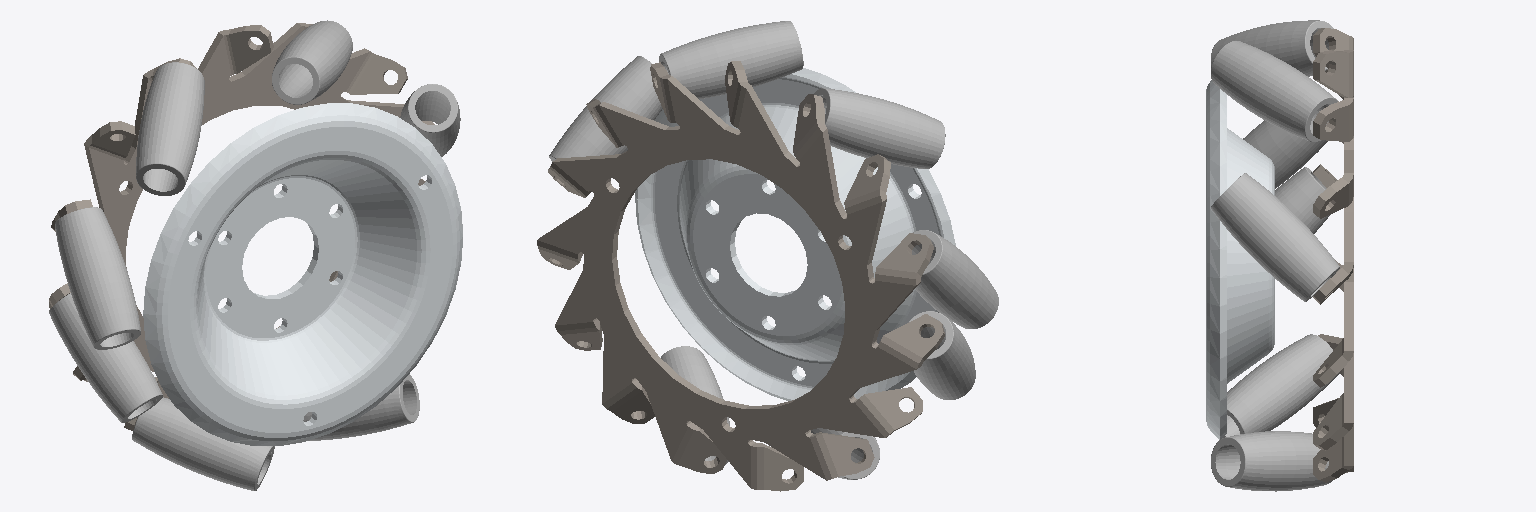
URDF robot description (mecanum_wheel_left):
<?xml version="1.0" encoding="utf-8"?>
<!-- This URDF was automatically created by SolidWorks to URDF Exporter! Originally created by Stephen Brawner ([email redacted]) 
     Commit Version: 1.6.0-4-g7f85cfe  Build Version: 1.6.7995.38578
     For more information, please see http://wiki.ros.org/sw_urdf_exporter -->
<robot
  name="mecanum_wheel_left">
  <link
    name="base_link">
    <inertial>
      <origin
        xyz="-3.9077136779291E-16 -0.0136205707454137 -1.44489682185117E-14"
        rpy="0 0 0" />
      <mass
        value="0.039620820516108" />
      <inertia
        ixx="3.76577202480009E-05"
        ixy="-1.07908308681007E-19"
        ixz="3.89356499633093E-22"
        iyy="7.10123305553507E-05"
        iyz="-1.66085499471637E-18"
        izz="3.76577202480009E-05" />
    </inertial>
    <visual>
      <origin
        xyz="0 0 0"
        rpy="0 0 0" />
      <geometry>
        <mesh
          filename="package://mecanum_wheel_left/meshes/base_link.STL" />
      </geometry>
      <material
        name="">
        <color
          rgba="0.898039215686275 0.917647058823529 0.929411764705882 1" />
      </material>
    </visual>
    <collision>
      <origin
        xyz="0 0 0"
        rpy="0 0 0" />
      <geometry>
        <mesh
          filename="package://mecanum_wheel_left/meshes/base_link.STL" />
      </geometry>
    </collision>
  </link>
  <link
    name="plate1">
    <inertial>
      <origin
        xyz="8.83119736279022E-16 3.33301269118141E-17 -0.000551568670724527"
        rpy="0 0 0" />
      <mass
        value="0.0253986639693882" />
      <inertia
        ixx="4.21627753206923E-05"
        ixy="1.3976043629696E-20"
        ixz="-2.39458839321443E-21"
        iyy="4.21627753206922E-05"
        iyz="4.06169630282727E-21"
        izz="8.39719993847474E-05" />
    </inertial>
    <visual>
      <origin
        xyz="0 0 0"
        rpy="0 0 0" />
      <geometry>
        <mesh
          filename="package://mecanum_wheel_left/meshes/plate1.STL" />
      </geometry>
      <material
        name="">
        <color
          rgba="0.650980392156863 0.619607843137255 0.588235294117647 1" />
      </material>
    </visual>
    <collision>
      <origin
        xyz="0 0 0"
        rpy="0 0 0" />
      <geometry>
        <mesh
          filename="package://mecanum_wheel_left/meshes/plate1.STL" />
      </geometry>
    </collision>
  </link>
  <joint
    name="base_link_to_plate1"
    type="fixed">
    <origin
      xyz="0 0.023114 0"
      rpy="-1.5708 0.03287 0" />
    <parent
      link="base_link" />
    <child
      link="plate1" />
    <axis
      xyz="0 0 0" />
  </joint>
  <link
    name="plate2">
    <inertial>
      <origin
        xyz="-1.10651810076925E-15 8.09386876632109E-17 -0.000551568670724527"
        rpy="0 0 0" />
      <mass
        value="0.0253986639693882" />
      <inertia
        ixx="4.21627753206924E-05"
        ixy="1.65171424714589E-20"
        ixz="4.28643950323039E-22"
        iyy="4.21627753206923E-05"
        iyz="2.75305456980319E-21"
        izz="8.39719993847476E-05" />
    </inertial>
    <visual>
      <origin
        xyz="0 0 0"
        rpy="0 0 0" />
      <geometry>
        <mesh
          filename="package://mecanum_wheel_left/meshes/plate2.STL" />
      </geometry>
      <material
        name="">
        <color
          rgba="0.650980392156863 0.619607843137255 0.588235294117647 1" />
      </material>
    </visual>
    <collision>
      <origin
        xyz="0 0 0"
        rpy="0 0 0" />
      <geometry>
        <mesh
          filename="package://mecanum_wheel_left/meshes/plate2.STL" />
      </geometry>
    </collision>
  </link>
  <joint
    name="base_link_to_plate2"
    type="fixed">
    <origin
      xyz="0 -0.023114 0"
      rpy="-1.5707963267949 0.0335546833724646 -3.14159265358979" />
    <parent
      link="base_link" />
    <child
      link="plate2" />
    <axis
      xyz="0 0 0" />
  </joint>

  <link
    name="roller1">
    <inertial>
      <origin
        xyz="5.96744875736022E-16 -1.24475083018716E-14 -0.0215899999999933"
        rpy="0 0 0" />
      <mass
        value="0.00499543658848208" />
      <inertia
        ixx="8.99919949242919E-07"
        ixy="3.97046694025453E-23"
        ixz="9.81863387100444E-22"
        iyy="8.9991994924288E-07"
        iyz="-8.0163727523739E-19"
        izz="3.31951561004127E-07" />
    </inertial>
    <visual>
      <origin
        xyz="0 0 0"
        rpy="0 0 0" />
      <geometry>
        <mesh
          filename="package://mecanum_wheel_left/meshes/roller1.STL" />
      </geometry>
      <material
        name="">
        <color
          rgba="0.752941176470588 0.752941176470588 0.752941176470588 1" />
      </material>
    </visual>
    <collision>
      <origin
        xyz="0 0 0"
        rpy="0 0 0" />
      <geometry>
        <mesh
          filename="package://mecanum_wheel_left/meshes/roller1.STL" />
      </geometry>
    </collision>
  </link>

  <joint
    name="base_link_to_roller1"
    type="continuous">
    <origin
      xyz="-0.064997 -0.01515 0.019737"
      rpy="2.3375 0.48899 -0.038445" />
    <parent
      link="base_link" />
    <child
      link="roller1" />
    <axis
      xyz="0 0 1" />
  </joint>


  <link
    name="roller2">
    <inertial>
      <origin
        xyz="5.82867087928207E-16 -9.95687907123788E-15 -0.0215899999999933"
        rpy="0 0 0" />
      <mass
        value="0.00499543658848216" />
      <inertia
        ixx="8.99919949245561E-07"
        ixy="-3.30872245021211E-24"
        ixz="8.56959114604937E-22"
        iyy="8.99919949245641E-07"
        iyz="-8.01716684576195E-19"
        izz="3.31951561009139E-07" />
    </inertial>
    <visual>
      <origin
        xyz="0 0 0"
        rpy="0 0 0" />
      <geometry>
        <mesh
          filename="package://mecanum_wheel_left/meshes/roller2.STL" />
      </geometry>
      <material
        name="">
        <color
          rgba="0.752941176470588 0.752941176470588 0.752941176470588 1" />
      </material>
    </visual>
    <collision>
      <origin
        xyz="0 0 0"
        rpy="0 0 0" />
      <geometry>
        <mesh
          filename="package://mecanum_wheel_left/meshes/roller2.STL" />
      </geometry>
    </collision>
  </link>
  <joint
    name="base_link_to_roller2"
    type="continuous">
    <origin
      xyz="-0.05135 -0.01515 0.044467"
      rpy="2.3122 0.90744 -0.055132" />
    <parent
      link="base_link" />
    <child
      link="roller2" />
    <axis
      xyz="0 0 1" />
  </joint>
  <link
    name="roller3">
    <inertial>
      <origin
        xyz="5.82867087928207E-16 -3.41003267290141E-15 -0.0215899999999933"
        rpy="0 0 0" />
      <mass
        value="0.00499543658848228" />
      <inertia
        ixx="8.9991994924907E-07"
        ixy="-9.92616735063633E-24"
        ixz="8.47860127866853E-22"
        iyy="8.99919949249046E-07"
        iyz="-8.01743154355797E-19"
        izz="3.3195156101569E-07" />
    </inertial>
    <visual>
      <origin
        xyz="0 0 0"
        rpy="0 0 0" />
      <geometry>
        <mesh
          filename="package://mecanum_wheel_left/meshes/roller3.STL" />
      </geometry>
      <material
        name="">
        <color
          rgba="0.752941176470588 0.752941176470588 0.752941176470588 1" />
      </material>
    </visual>
    <collision>
      <origin
        xyz="0 0 0"
        rpy="0 0 0" />
      <geometry>
        <mesh
          filename="package://mecanum_wheel_left/meshes/roller3.STL" />
      </geometry>
    </collision>
  </link>
  <joint
    name="base_link_to_roller3"
    type="continuous">
    <origin
      xyz="-0.028824 -0.01515 0.061508"
      rpy="2.22 1.3248 -0.13976" />
    <parent
      link="base_link" />
    <child
      link="roller3" />
    <axis
      xyz="0 0 1" />
  </joint>
  <link
    name="roller4">
    <inertial>
      <origin
        xyz="5.68989300120393E-16 -3.35365415993216E-15 -0.0215899999999933"
        rpy="0 0 0" />
      <mass
        value="0.00499543658848229" />
      <inertia
        ixx="8.9991994924904E-07"
        ixy="1.65436122510606E-23"
        ixz="7.69277969674316E-22"
        iyy="8.99919949249123E-07"
        iyz="-8.01796093915E-19"
        izz="3.31951561015737E-07" />
    </inertial>
    <visual>
      <origin
        xyz="0 0 0"
        rpy="0 0 0" />
      <geometry>
        <mesh
          filename="package://mecanum_wheel_left/meshes/roller4.STL" />
      </geometry>
      <material
        name="">
        <color
          rgba="0.752941176470588 0.752941176470588 0.752941176470588 1" />
      </material>
    </visual>
    <collision>
      <origin
        xyz="0 0 0"
        rpy="0 0 0" />
      <geometry>
        <mesh
          filename="package://mecanum_wheel_left/meshes/roller4.STL" />
      </geometry>
    </collision>
  </link>
  <joint
    name="base_link_to_roller4"
    type="continuous">
    <origin
      xyz="-0.0013143 -0.01515 0.067914"
      rpy="-0.59653 1.3924 -2.9492" />
    <parent
      link="base_link" />
    <child
      link="roller4" />
    <axis
      xyz="0 0 1" />
  </joint>
  <link
    name="roller5">
    <inertial>
      <origin
        xyz="5.96744875736022E-16 2.4459601011273E-15 -0.0215899999999933"
        rpy="0 0 0" />
      <mass
        value="0.00499543658848241" />
      <inertia
        ixx="8.99919949250993E-07"
        ixy="3.14328632770151E-23"
        ixz="7.25437397209005E-22"
        iyy="8.99919949251052E-07"
        iyz="-8.01796093915E-19"
        izz="3.31951561019638E-07" />
    </inertial>
    <visual>
      <origin
        xyz="0 0 0"
        rpy="0 0 0" />
      <geometry>
        <mesh
          filename="package://mecanum_wheel_left/meshes/roller5.STL" />
      </geometry>
      <material
        name="">
        <color
          rgba="0.752941176470588 0.752941176470588 0.752941176470588 1" />
      </material>
    </visual>
    <collision>
      <origin
        xyz="0 0 0"
        rpy="0 0 0" />
      <geometry>
        <mesh
          filename="package://mecanum_wheel_left/meshes/roller5.STL" />
      </geometry>
    </collision>
  </link>
  <joint
    name="base_link_to_roller5"
    type="continuous">
    <origin
      xyz="0.026423 -0.01515 0.062578"
      rpy="-0.73578 0.97593 -3.081" />
    <parent
      link="base_link" />
    <child
      link="roller5" />
    <axis
      xyz="0 0 1" />
  </joint>
  <link
    name="roller6">
    <inertial>
      <origin
        xyz="5.82867087928207E-16 -7.52392939618041E-15 -0.0215899999999933"
        rpy="0 0 0" />
      <mass
        value="0.00499543658848228" />
      <inertia
        ixx="8.99919949249441E-07"
        ixy="5.9557004103818E-23"
        ixz="8.28834973778134E-22"
        iyy="8.99919949249495E-07"
        iyz="-8.017828590252E-19"
        izz="3.31951561016508E-07" />
    </inertial>
    <visual>
      <origin
        xyz="0 0 0"
        rpy="0 0 0" />
      <geometry>
        <mesh
          filename="package://mecanum_wheel_left/meshes/roller6.STL" />
      </geometry>
      <material
        name="">
        <color
          rgba="0.752941176470588 0.752941176470588 0.752941176470588 1" />
      </material>
    </visual>
    <collision>
      <origin
        xyz="0 0 0"
        rpy="0 0 0" />
      <geometry>
        <mesh
          filename="package://mecanum_wheel_left/meshes/roller6.STL" />
      </geometry>
    </collision>
  </link>
  <joint
    name="base_link_to_roller6"
    type="continuous">
    <origin
      xyz="0.049591 -0.01515 0.04642"
      rpy="-0.76481 0.55754 -3.1016" />
    <parent
      link="base_link" />
    <child
      link="roller6" />
    <axis
      xyz="0 0 1" />
  </joint>
  <link
    name="roller7">
    <inertial>
      <origin
        xyz="5.82867087928207E-16 -3.4109000346394E-15 -0.0215899999999933"
        rpy="0 0 0" />
      <mass
        value="0.00499543658848228" />
      <inertia
        ixx="8.9991994924911E-07"
        ixy="-3.30872245021211E-24"
        ixz="7.51079996198149E-22"
        iyy="8.99919949249103E-07"
        iyz="-8.00353490926708E-19"
        izz="3.31951561015786E-07" />
    </inertial>
    <visual>
      <origin
        xyz="0 0 0"
        rpy="0 0 0" />
      <geometry>
        <mesh
          filename="package://mecanum_wheel_left/meshes/roller7.STL" />
      </geometry>
      <material
        name="">
        <color
          rgba="0.752941176470588 0.752941176470588 0.752941176470588 1" />
      </material>
    </visual>
    <collision>
      <origin
        xyz="0 0 0"
        rpy="0 0 0" />
      <geometry>
        <mesh
          filename="package://mecanum_wheel_left/meshes/roller7.STL" />
      </geometry>
    </collision>
  </link>
  <joint
    name="base_link_to_roller7"
    type="continuous">
    <origin
      xyz="0.064184 -0.01515 0.022237"
      rpy="-0.78123 0.13894 -3.1073" />
    <parent
      link="base_link" />
    <child
      link="roller7" />
    <axis
      xyz="0 0 1" />
  </joint>
  <link
    name="roller8">
    <inertial>
      <origin
        xyz="5.82867087928207E-16 -1.76421377506841E-15 -0.0215899999999933"
        rpy="0 0 0" />
      <mass
        value="0.00499543658848253" />
      <inertia
        ixx="8.9991994925561E-07"
        ixy="-4.13590306276514E-23"
        ixz="7.46944093135384E-22"
        iyy="8.99919949255578E-07"
        iyz="-8.01624040347589E-19"
        izz="3.31951561027997E-07" />
    </inertial>
    <visual>
      <origin
        xyz="0 0 0"
        rpy="0 0 0" />
      <geometry>
        <mesh
          filename="package://mecanum_wheel_left/meshes/roller8.STL" />
      </geometry>
      <material
        name="">
        <color
          rgba="0.752941176470588 0.752941176470588 0.752941176470588 1" />
      </material>
    </visual>
    <collision>
      <origin
        xyz="0 0 0"
        rpy="0 0 0" />
      <geometry>
        <mesh
          filename="package://mecanum_wheel_left/meshes/roller8.STL" />
      </geometry>
    </collision>
  </link>
  <joint
    name="base_link_to_roller8"
    type="continuous">
    <origin
      xyz="0.06768 -0.01515 -0.0057919"
      rpy="-0.79573 -0.27969 -3.1063" />
    <parent
      link="base_link" />
    <child
      link="roller8" />
    <axis
      xyz="0 0 1" />
  </joint>
  <link
    name="roller9">
    <inertial>
      <origin
        xyz="5.82867087928207E-16 -5.1013880619788E-15 -0.0215899999999933"
        rpy="0 0 0" />
      <mass
        value="0.00499543658848228" />
      <inertia
        ixx="8.99919949250354E-07"
        ixy="1.81979734761666E-22"
        ixz="8.08982639076861E-22"
        iyy="8.99919949250367E-07"
        iyz="-8.01835798584403E-19"
        izz="3.31951561017902E-07" />
    </inertial>
    <visual>
      <origin
        xyz="0 0 0"
        rpy="0 0 0" />
      <geometry>
        <mesh
          filename="package://mecanum_wheel_left/meshes/roller9.STL" />
      </geometry>
      <material
        name="">
        <color
          rgba="0.752941176470588 0.752941176470588 0.752941176470588 1" />
      </material>
    </visual>
    <collision>
      <origin
        xyz="0 0 0"
        rpy="0 0 0" />
      <geometry>
        <mesh
          filename="package://mecanum_wheel_left/meshes/roller9.STL" />
      </geometry>
    </collision>
  </link>
  <joint
    name="base_link_to_roller9"
    type="continuous">
    <origin
      xyz="0.059473 -0.01515 -0.032819"
      rpy="-0.81448 -0.69826 -3.0973" />
    <parent
      link="base_link" />
    <child
      link="roller9" />
    <axis
      xyz="0 0 1" />
  </joint>
  <link
    name="roller10">
    <inertial>
      <origin
        xyz="5.96744875736022E-16 -6.51952450358984E-15 -0.0215899999999933"
        rpy="0 0 0" />
      <mass
        value="0.00499543658848228" />
      <inertia
        ixx="8.99919949250464E-07"
        ixy="-1.43929426584227E-22"
        ixz="8.58613475830043E-22"
        iyy="8.99919949250483E-07"
        iyz="-8.01756389245598E-19"
        izz="3.31951561018128E-07" />
    </inertial>
    <visual>
      <origin
        xyz="0 0 0"
        rpy="0 0 0" />
      <geometry>
        <mesh
          filename="package://mecanum_wheel_left/meshes/roller10.STL" />
      </geometry>
      <material
        name="">
        <color
          rgba="0.752941176470588 0.752941176470588 0.752941176470588 1" />
      </material>
    </visual>
    <collision>
      <origin
        xyz="0 0 0"
        rpy="0 0 0" />
      <geometry>
        <mesh
          filename="package://mecanum_wheel_left/meshes/roller10.STL" />
      </geometry>
    </collision>
  </link>
  <joint
    name="base_link_to_roller10"
    type="continuous">
    <origin
      xyz="0.040982 -0.01515 -0.054171"
      rpy="-0.85554 -1.1164 -3.0642" />
    <parent
      link="base_link" />
    <child
      link="roller10" />
    <axis
      xyz="0 0 1" />
  </joint>
  <link
    name="roller11">
    <inertial>
      <origin
        xyz="5.68989300120393E-16 -3.40699690681845E-15 -0.0215899999999933"
        rpy="0 0 0" />
      <mass
        value="0.00499543658848228" />
      <inertia
        ixx="8.99919949249114E-07"
        ixy="-6.61744490042422E-24"
        ixz="8.13118542139626E-22"
        iyy="8.99919949249044E-07"
        iyz="-8.00419665375712E-19"
        izz="3.31951561015731E-07" />
    </inertial>
    <visual>
      <origin
        xyz="0 0 0"
        rpy="0 0 0" />
      <geometry>
        <mesh
          filename="package://mecanum_wheel_left/meshes/roller11.STL" />
      </geometry>
      <material
        name="">
        <color
          rgba="0.752941176470588 0.752941176470588 0.752941176470588 1" />
      </material>
    </visual>
    <collision>
      <origin
        xyz="0 0 0"
        rpy="0 0 0" />
      <geometry>
        <mesh
          filename="package://mecanum_wheel_left/meshes/roller11.STL" />
      </geometry>
    </collision>
  </link>
  <joint
    name="base_link_to_roller11"
    type="continuous">
    <origin
      xyz="0.015406 -0.01515 -0.066157"
      rpy="-1.5658 -1.5225 -2.3612" />
    <parent
      link="base_link" />
    <child
      link="roller11" />
    <axis
      xyz="0 0 1" />
  </joint>
  <link
    name="roller12">
    <inertial>
      <origin
        xyz="5.96744875736022E-16 -9.87751547221194E-15 -0.0215899999999933"
        rpy="0 0 0" />
      <mass
        value="0.00499543658848222" />
      <inertia
        ixx="8.99919949247458E-07"
        ixy="8.27180612553028E-24"
        ixz="7.10548146183051E-22"
        iyy="8.99919949247364E-07"
        iyz="-8.01716684576195E-19"
        izz="3.31951561012396E-07" />
    </inertial>
    <visual>
      <origin
        xyz="0 0 0"
        rpy="0 0 0" />
      <geometry>
        <mesh
          filename="package://mecanum_wheel_left/meshes/roller12.STL" />
      </geometry>
      <material
        name="">
        <color
          rgba="0.752941176470588 0.752941176470588 0.752941176470588 1" />
      </material>
    </visual>
    <collision>
      <origin
        xyz="0 0 0"
        rpy="0 0 0" />
      <geometry>
        <mesh
          filename="package://mecanum_wheel_left/meshes/roller12.STL" />
      </geometry>
    </collision>
  </link>
  <joint
    name="base_link_to_roller12"
    type="continuous">
    <origin
      xyz="-0.012835 -0.01515 -0.066704"
      rpy="2.4393 -1.1848 -0.090248" />
    <parent
      link="base_link" />
    <child
      link="roller12" />
    <axis
      xyz="0 0 1" />
  </joint>
  <link
    name="roller13">
    <inertial>
      <origin
        xyz="6.10622663543836E-16 -6.50608039665102E-15 -0.0215899999999933"
        rpy="0 0 0" />
      <mass
        value="0.0049954365884824" />
      <inertia
        ixx="8.99919949251263E-07"
        ixy="3.30872245021211E-24"
        ixz="8.75984268693656E-22"
        iyy="8.9991994925119E-07"
        iyz="-8.01491691449581E-19"
        izz="3.31951561019653E-07" />
    </inertial>
    <visual>
      <origin
        xyz="0 0 0"
        rpy="0 0 0" />
      <geometry>
        <mesh
          filename="package://mecanum_wheel_left/meshes/roller13.STL" />
      </geometry>
      <material
        name="">
        <color
          rgba="0.752941176470588 0.752941176470588 0.752941176470588 1" />
      </material>
    </visual>
    <collision>
      <origin
        xyz="0 0 0"
        rpy="0 0 0" />
      <geometry>
        <mesh
          filename="package://mecanum_wheel_left/meshes/roller13.STL" />
      </geometry>
    </collision>
  </link>
  <joint
    name="base_link_to_roller13"
    type="continuous">
    <origin
      xyz="-0.038856 -0.01515 -0.055716"
      rpy="2.3883 -0.76678 -0.047134" />
    <parent
      link="base_link" />
    <child
      link="roller13" />
    <axis
      xyz="0 0 1" />
  </joint>
  <link
    name="roller14">
    <inertial>
      <origin
        xyz="5.96744875736022E-16 -3.365797224264E-15 -0.0215899999999933"
        rpy="0 0 0" />
      <mass
        value="0.00499543658848228" />
      <inertia
        ixx="8.99919949249125E-07"
        ixy="2.81241408268029E-23"
        ixz="6.46855239016468E-22"
        iyy="8.99919949249103E-07"
        iyz="-8.01888738143606E-19"
        izz="3.31951561015801E-07" />
    </inertial>
    <visual>
      <origin
        xyz="0 0 0"
        rpy="0 0 0" />
      <geometry>
        <mesh
          filename="package://mecanum_wheel_left/meshes/roller14.STL" />
      </geometry>
      <material
        name="">
        <color
          rgba="0.752941176470588 0.752941176470588 0.752941176470588 1" />
      </material>
    </visual>
    <collision>
      <origin
        xyz="0 0 0"
        rpy="0 0 0" />
      <geometry>
        <mesh
          filename="package://mecanum_wheel_left/meshes/roller14.STL" />
      </geometry>
    </collision>
  </link>
  <joint
    name="base_link_to_roller14"
    type="continuous">
    <origin
      xyz="-0.058159 -0.01515 -0.035095"
      rpy="2.3679 -0.34825 -0.036106" />
    <parent
      link="base_link" />
    <child
      link="roller14" />
    <axis
      xyz="0 0 1" />
  </joint>
  <link
    name="roller15">
    <inertial>
      <origin
        xyz="5.82867087928207E-16 -3.35452152167015E-15 -0.0215899999999933"
        rpy="0 0 0" />
      <mass
        value="0.00499543658848229" />
      <inertia
        ixx="8.99919949249126E-07"
        ixy="-1.15805285757424E-23"
        ixz="8.54477572767278E-22"
        iyy="8.99919949249124E-07"
        iyz="-8.01796093915E-19"
        izz="3.31951561015821E-07" />
    </inertial>
    <visual>
      <origin
        xyz="0 0 0"
        rpy="0 0 0" />
      <geometry>
        <mesh
          filename="package://mecanum_wheel_left/meshes/roller15.STL" />
      </geometry>
      <material
        name="">
        <color
          rgba="0.752941176470588 0.752941176470588 0.752941176470588 1" />
      </material>
    </visual>
    <collision>
      <origin
        xyz="0 0 0"
        rpy="0 0 0" />
      <geometry>
        <mesh
          filename="package://mecanum_wheel_left/meshes/roller15.STL" />
      </geometry>
    </collision>
  </link>
  <joint
    name="base_link_to_roller15"
    type="continuous">
    <origin
      xyz="-0.0674050504299177 -0.0151497403158722 -0.00840608812639412"
      rpy="2.35322166168045 0.070379538766794 -0.0340216727613588" />
    <parent
      link="base_link" />
    <child
      link="roller15" />
    <axis
      xyz="0 0 1" />
  </joint>
</robot>

--- What the picture shows (computed from the rendered views, not written in the file) ---
Views: 3 orthographic renders of the robot side by side, from view 1: azimuth 30°, elevation 25°; view 2: azimuth 150°, elevation 25°; view 3: azimuth 270°, elevation 25°.
Model mecanum_wheel_left with 18 links and 17 joints (15 continuous, 2 fixed), rooted at base_link, posed every joint at zero.
Links seen in each view (by area): view 1: base_link, plate1, roller15, roller2, roller12, roller14, roller4, roller6, roller10; view 2: plate1, base_link, roller2, roller4, roller15, roller6, roller14, roller10, roller12; view 3: base_link, plate1, roller6, roller4, roller12, roller10, roller2, roller15, roller14.
Boxes of the visible links, x1,y1,x2,y2 form: base_link: (143, 103, 462, 445); plate1: (49, 23, 434, 430); roller15: (55, 207, 140, 349); roller2: (136, 62, 204, 195); roller12: (132, 397, 274, 490); roller14: (49, 293, 162, 422); roller4: (272, 20, 352, 104); roller6: (400, 84, 460, 156); roller10: (303, 374, 419, 440); plate1: (537, 61, 944, 491); base_link: (635, 68, 955, 400); roller2: (814, 88, 945, 168); roller4: (659, 21, 803, 98); roller15: (912, 230, 998, 328); roller6: (549, 56, 662, 161); roller14: (908, 311, 975, 399); roller10: (661, 346, 729, 464); roller12: (811, 428, 879, 479); base_link: (1206, 80, 1274, 439); plate1: (1313, 28, 1353, 482); roller6: (1211, 173, 1339, 301); roller4: (1211, 41, 1337, 141); roller12: (1223, 334, 1339, 437); roller10: (1211, 431, 1332, 491); roller2: (1211, 20, 1333, 76); roller15: (1243, 120, 1327, 188); roller14: (1275, 167, 1330, 233).
Size in the robot's own frame: 0.1487 by 0.0476 by 0.1502 metres.
Meshes: 18 distinct files referenced, 9 mesh visuals loaded (9 binary STL); not drawn: 9 (reference not matched to a file when rendering).
